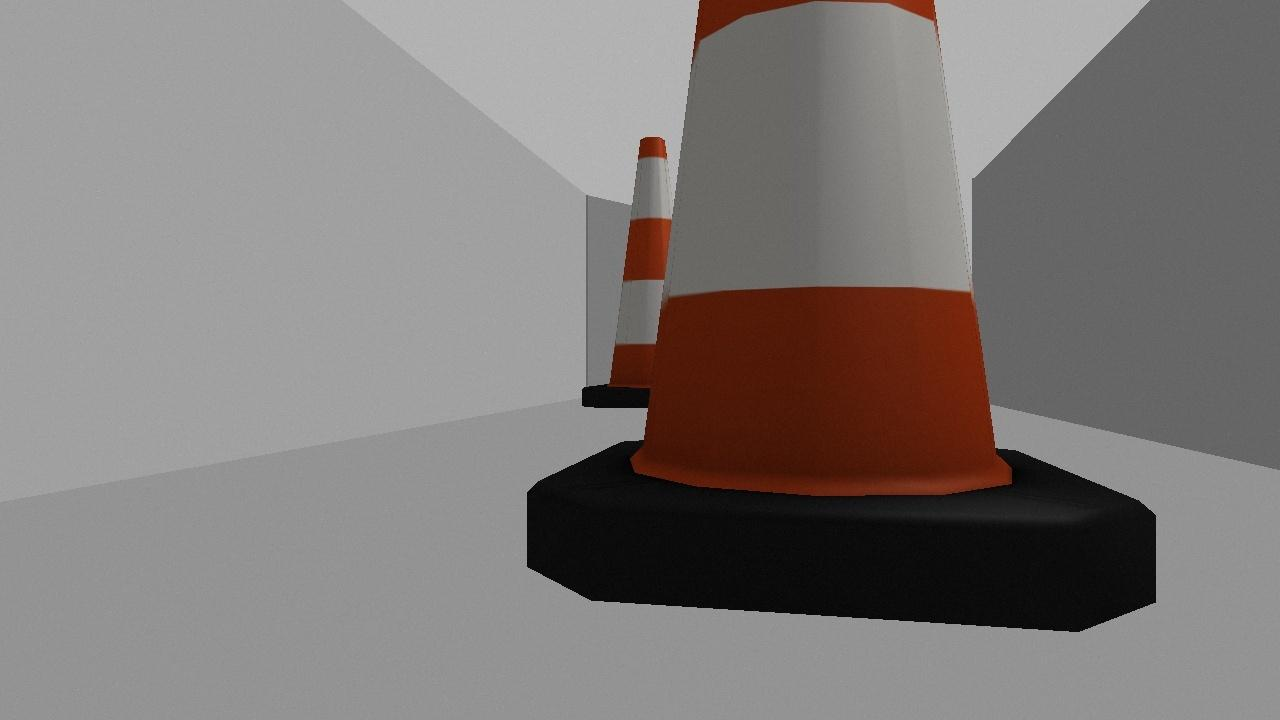cone_barrel: (506, 0, 1178, 646), (562, 129, 717, 410)
